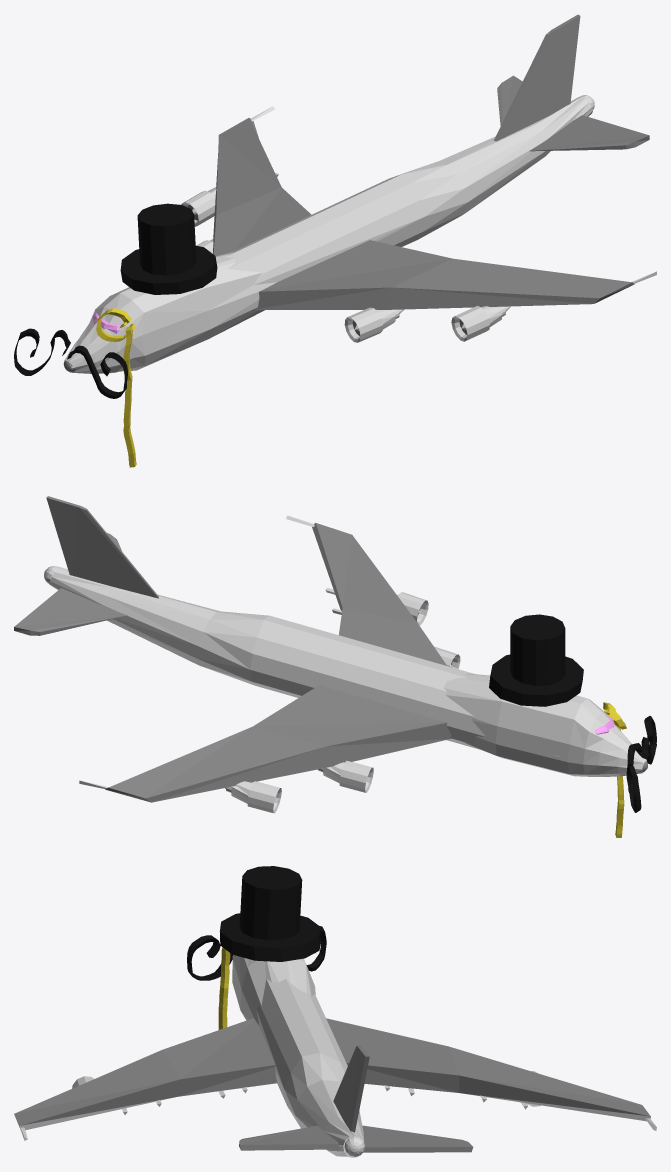
3 views of the same model, one above another, from view 1: azimuth 30°, elevation 25°; view 2: azimuth 150°, elevation 25°; view 3: azimuth 270°, elevation 25° (orthographic). The views are drawn at different scales.
Parts seen in each view (by area): view 1: node_MeshObject1196583680-PolyPaper22; view 2: node_MeshObject1196583680-PolyPaper22; view 3: node_MeshObject1196583680-PolyPaper22.
Boxes of the visible parts, box(x1,y1,x2,y2) form: node_MeshObject1196583680-PolyPaper22: box(14, 14, 656, 467); node_MeshObject1196583680-PolyPaper22: box(14, 496, 656, 837); node_MeshObject1196583680-PolyPaper22: box(14, 866, 656, 1157).
Bounding box in the file's own units: 2.55 × 1.12 × 2.25.
